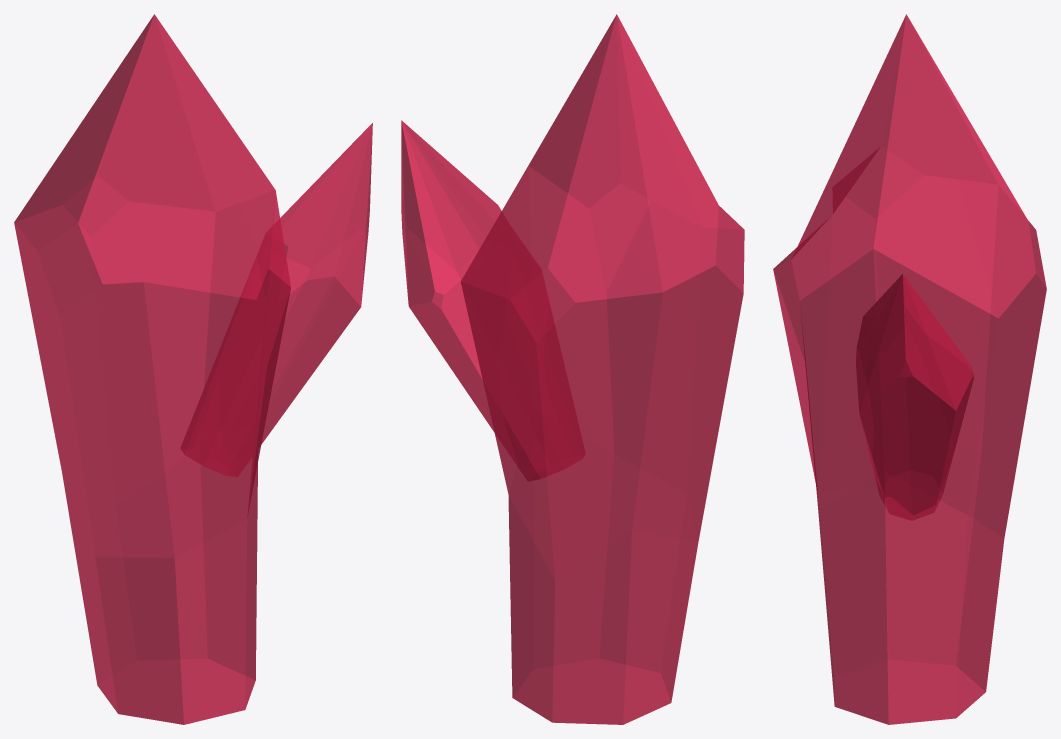
The model's file is otros_objetos 5.fbx.
The picture shows the model from 3 angles, left to right: view 1: azimuth 30°, elevation 25°; view 2: azimuth 150°, elevation 25°; view 3: azimuth 270°, elevation 25°; orthographic projection. The views are drawn at different scales.
Visible parts, largest first — view 1: cristal3; view 2: cristal3; view 3: cristal3.
Boxes of the visible parts, x1,y1,x2,y2 form: cristal3: [14, 14, 372, 724]; cristal3: [401, 14, 744, 724]; cristal3: [773, 14, 1046, 724].
Size of the model in its own units: 116 by 230 by 85.69.
